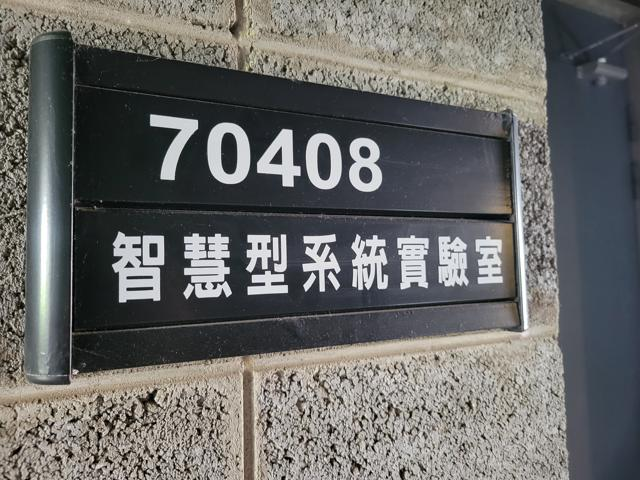doorplate: (20, 26, 537, 390)
